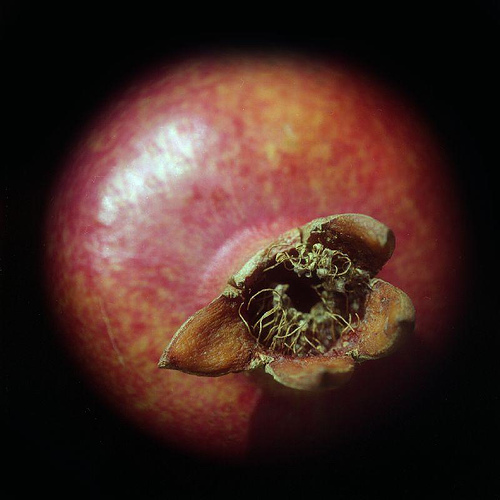pomogranate: (42, 42, 458, 458)
